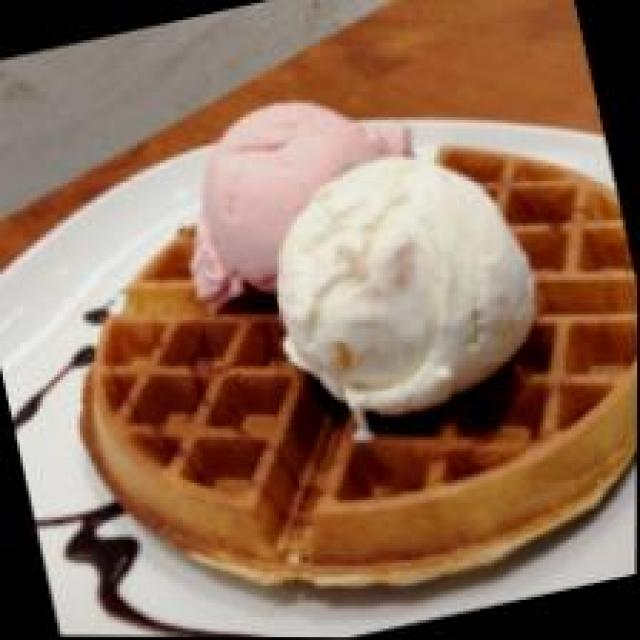Waffles: (30, 94, 639, 640)
